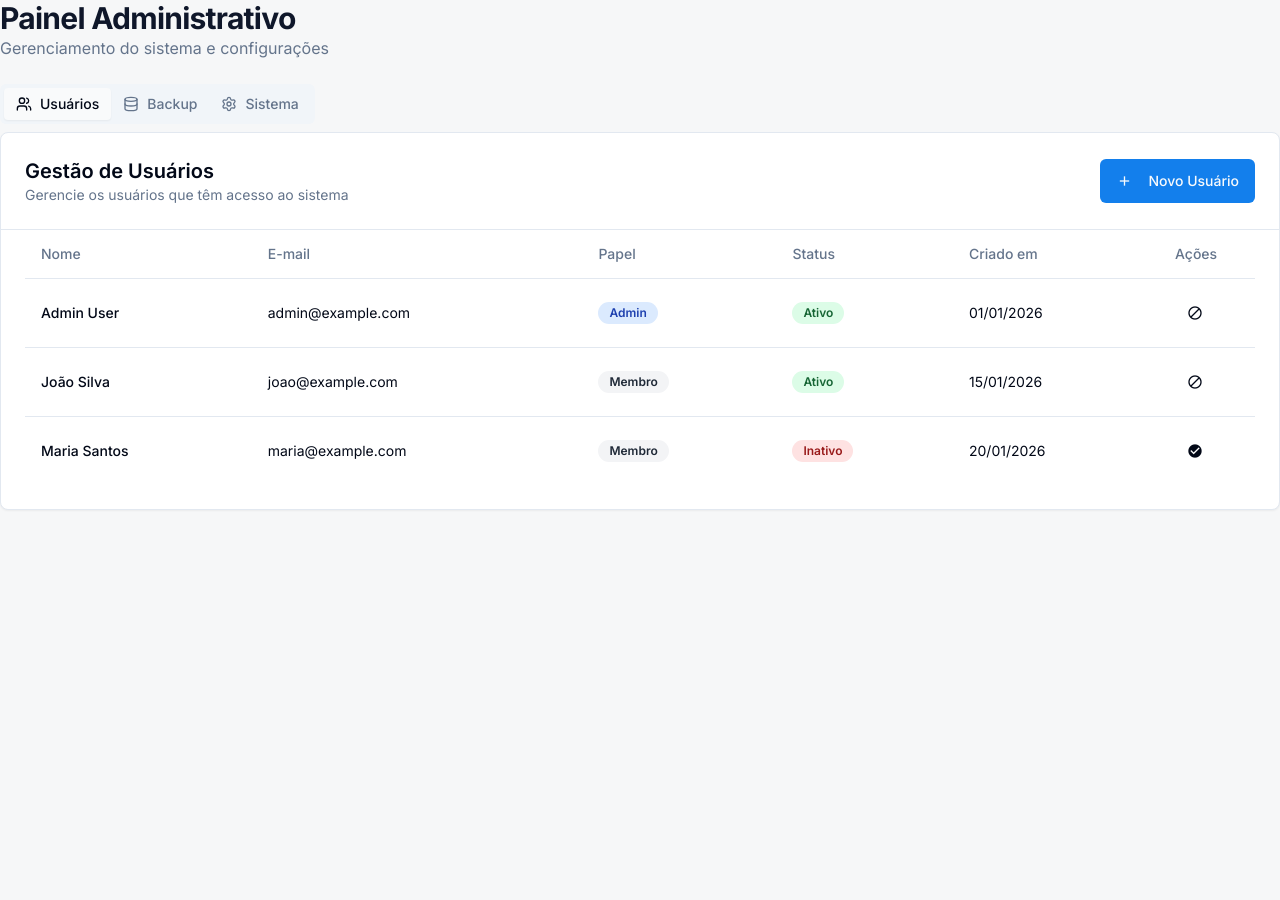
Test: AdminPage Integration › opens user form when clicking new user button
Check: the heading "Painel Administrativo" is shown, box 0,0 -> 296,36
Click the button "Novo Usuário" at (1178, 181), box 1100,159 -> 1255,203
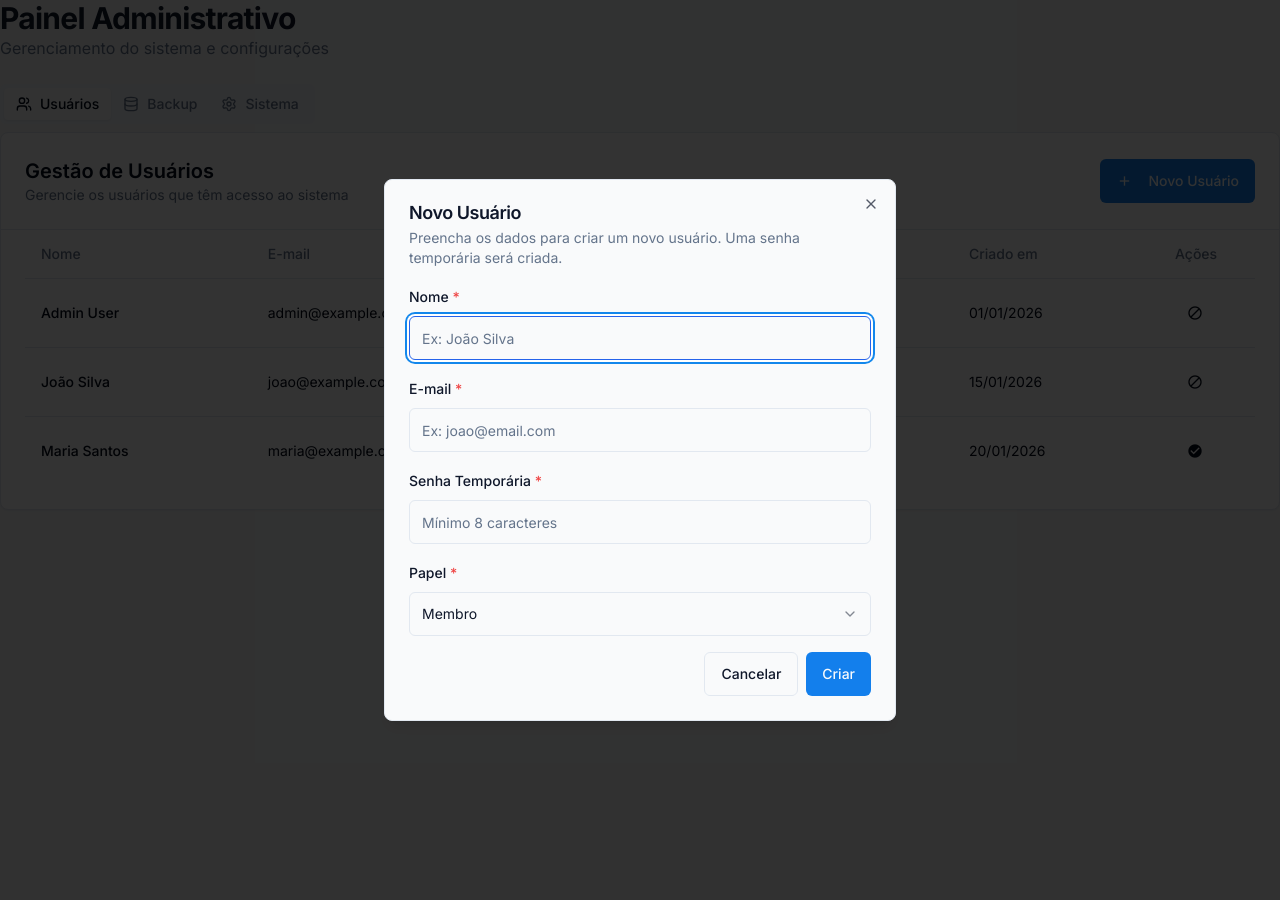
Check: the dialog is shown, box 384,179 -> 896,721
Check: the field labelled "Nome *" is shown, box 409,316 -> 871,360
